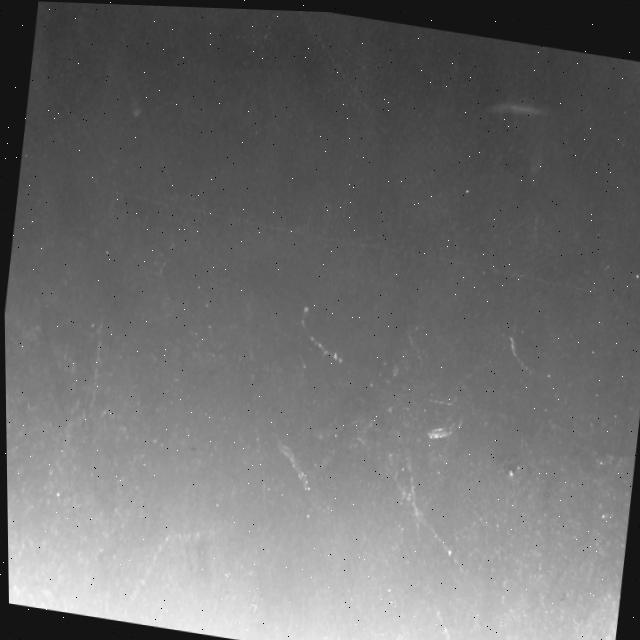beta: (272, 8, 472, 213), (100, 73, 232, 265), (339, 431, 495, 589), (19, 36, 118, 158), (227, 341, 284, 524), (124, 521, 171, 608), (290, 295, 350, 363), (395, 446, 428, 534), (422, 597, 482, 640), (501, 324, 535, 376), (169, 520, 218, 543)
